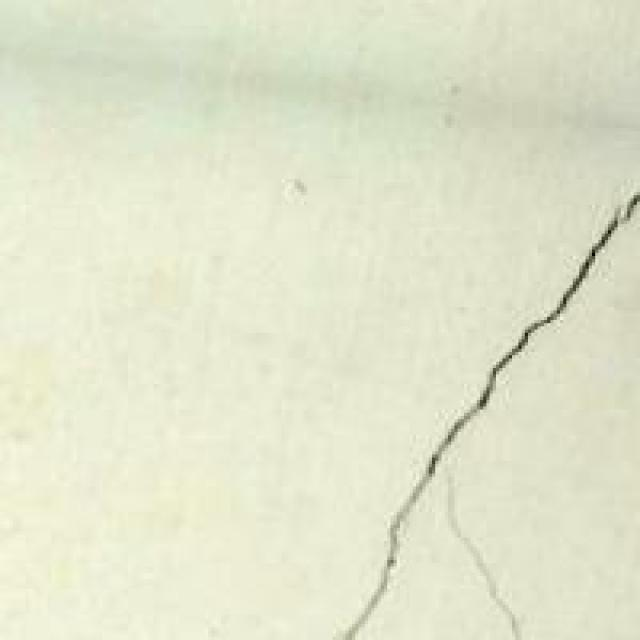crack: (314, 182, 636, 637)
